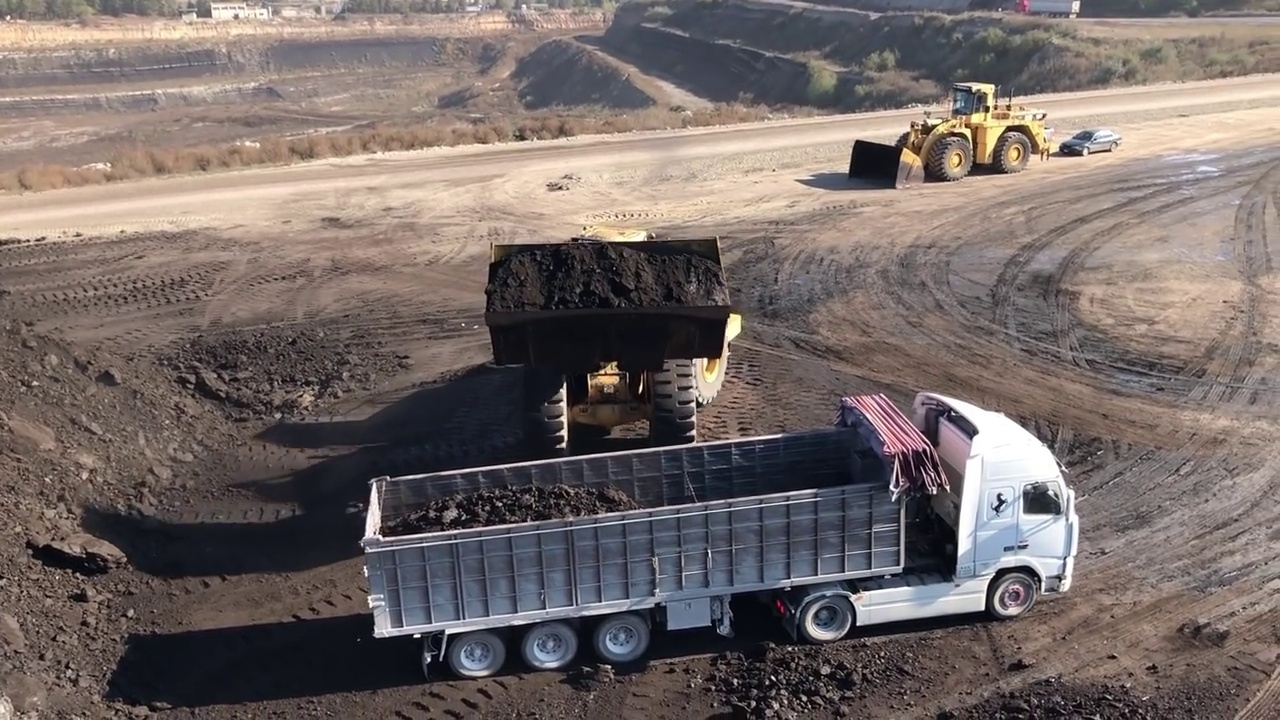car: (1060, 128, 1121, 155)
truck: (346, 392, 1078, 675)
wheel loader: (486, 222, 739, 449), (850, 80, 1047, 186)
